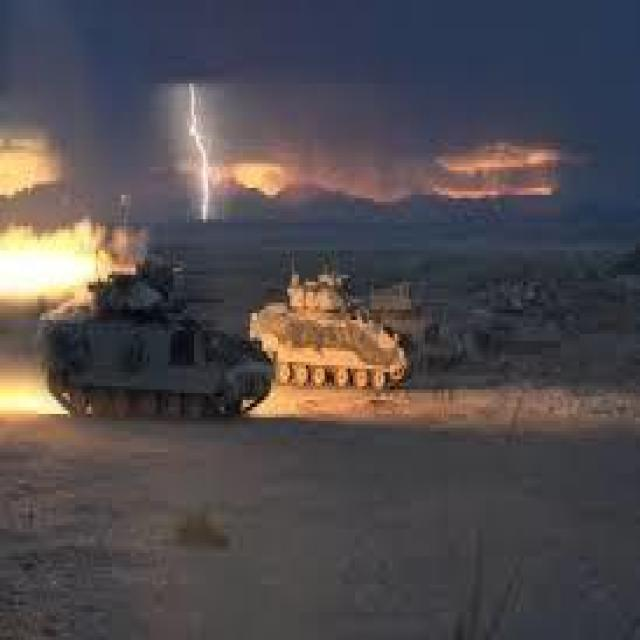Tanks: (38, 272, 276, 432), (280, 268, 411, 389)
